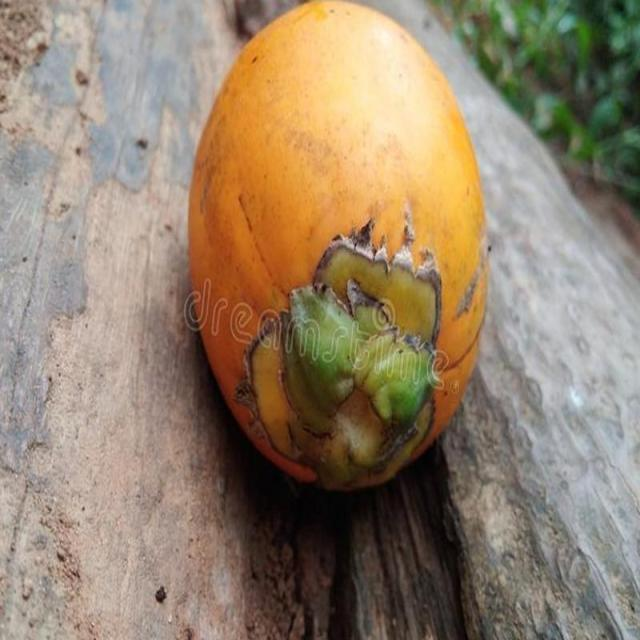good: (188, 0, 490, 496)
